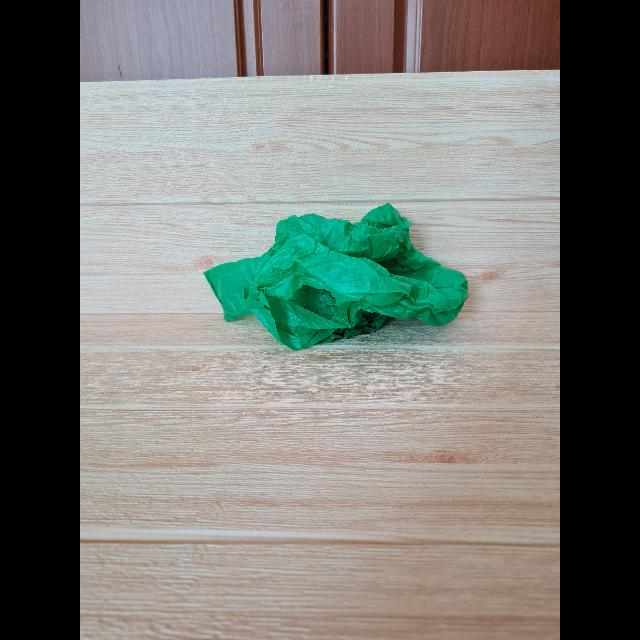plastic_bag: (212, 204, 476, 342)
